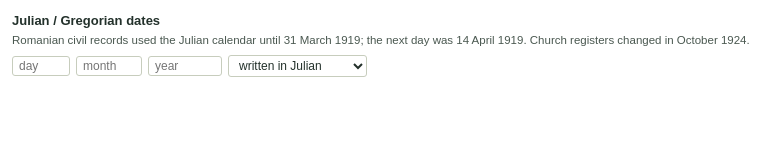
Test: Julian / Gregorian helpers (Phase 9 review, d) › the converter
Type "28" into the field named "Converter day" at (41, 66), box [12,56,70,76]
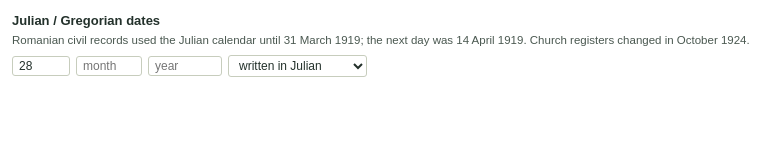
Type "3" into the field named "Converter month" at (109, 66), box [76,56,142,76]
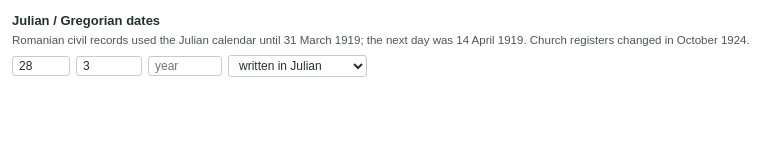
Type "1866" into the field named "Converter year" at (185, 66), box [148,56,222,76]
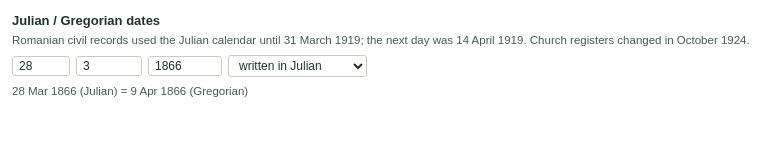
Expected: the text with test id "calendar-line" reads "28 Mar 1866 (Julian) = 9 Apr 1866 (Gregorian)", [12,85,248,97]
Select "written in Gregorian" in the dropdown named "Converter calendar" at (298, 66), box [228,55,367,77]
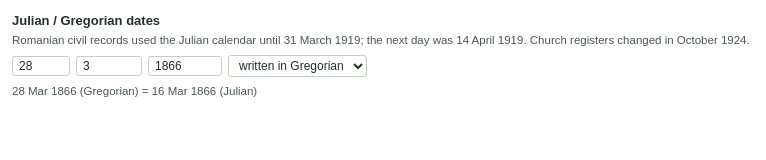
Expected: the text with test id "calendar-line" reads "28 Mar 1866 (Gregorian) = 16 Mar 1866 (Julian)", [12,85,257,97]
